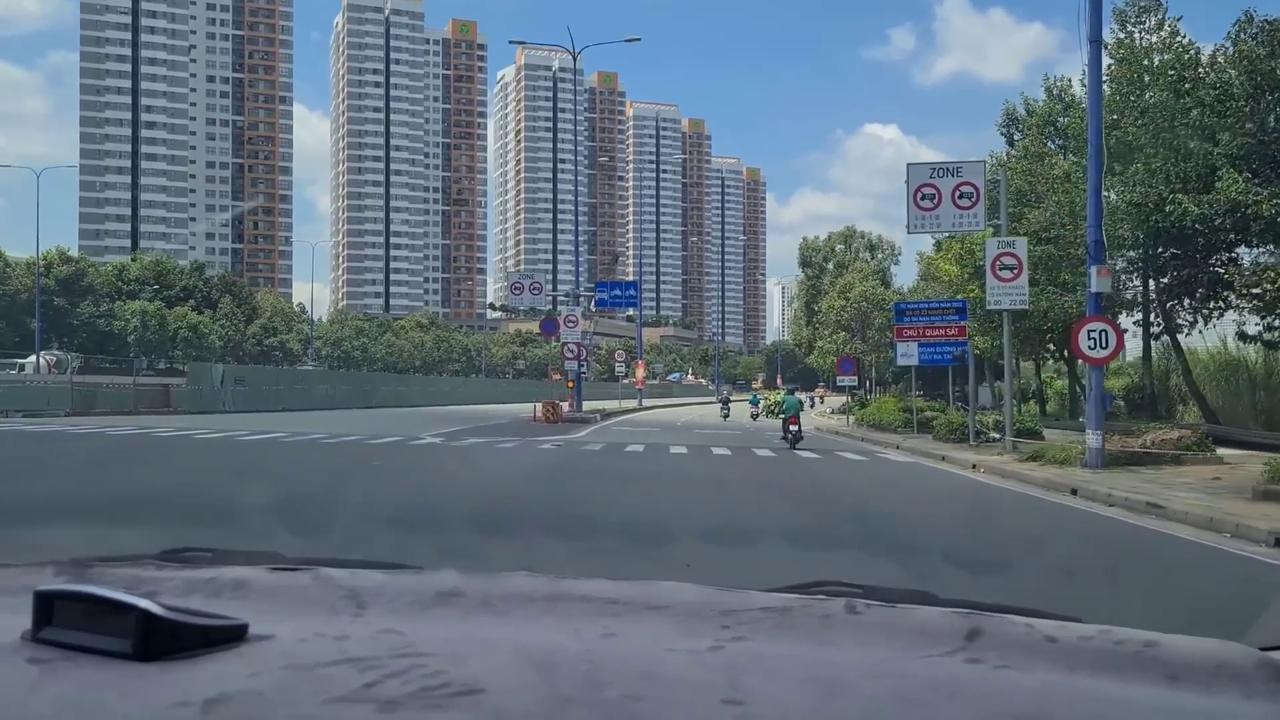Biển phụ: (614, 364, 626, 376)
Cấm cac phương tiện hoạt động trong khung giờ cố định: (904, 160, 987, 232), (983, 235, 1029, 310), (506, 271, 546, 306), (560, 305, 582, 341)
Cấm dừng - Cấm đỗ: (834, 354, 859, 376), (538, 314, 560, 337)
Cấm xe máy: (560, 341, 580, 360)
Giới hạn tốc độ 50Km/h: (1069, 314, 1124, 364)
Giới hạn tốc độ 80Km/h: (614, 347, 627, 363)
Khác: (891, 299, 970, 365)
Làn đường cho từng xe: (593, 280, 640, 309)
